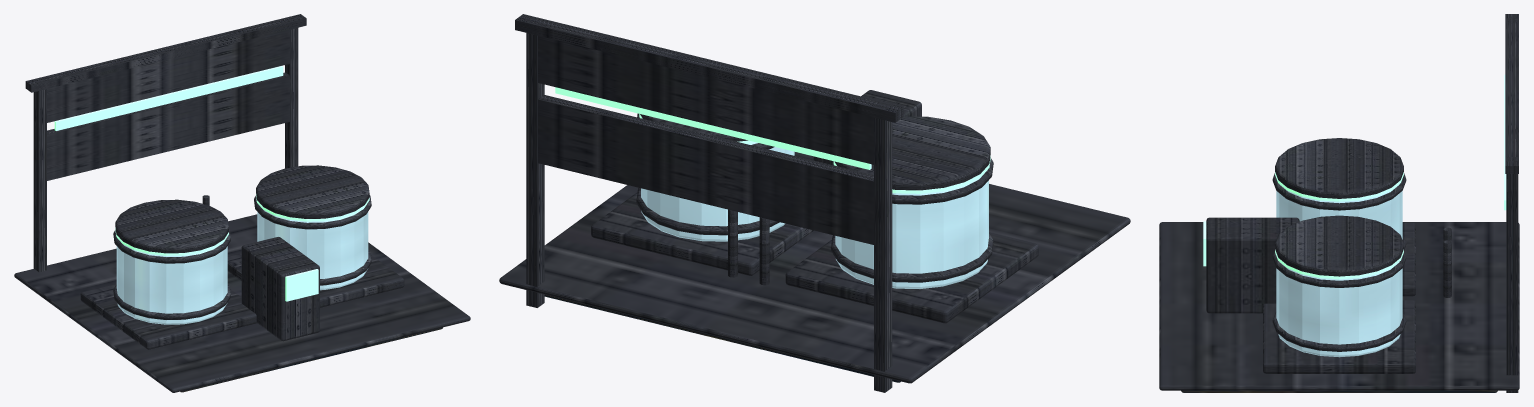
Rendered from ecosys_tank.glb.
The picture shows the model from 3 angles, left to right: view 1: azimuth 30°, elevation 25°; view 2: azimuth 150°, elevation 25°; view 3: azimuth 270°, elevation 25°; orthographic projection. The views are drawn at different scales.
Parts seen in each view (by area): view 1: sight_shell, plinth, glass0, console, cap1, cap0, glass1, pedestal0, sightglow, pedestal1, ringlo0, ringhi1 (+4 smaller); view 2: sight_shell, plinth, glass0, pedestal0, cap0, pedestal1, glass1, sightglow, ringlo0, ringlo1, ringhi0, toe (+3 smaller); view 3: plinth, glass1, console, cap1, cap0, sight_shell, pedestal1, glass0, ringlo1, ringhi1, ringhi0, toe (+4 smaller).
Boxes of the visible parts, x1,y1,x2,y2 form: sight_shell: (25,14,306,272); plinth: (14,214,470,392); glass0: (116,239,227,324); console: (241,237,319,341); cap1: (256,165,369,218); cap0: (115,199,228,253); glass1: (257,204,368,290); pedestal0: (80,283,256,349); sightglow: (54,66,283,130); pedestal1: (227,253,404,307); ringlo0: (113,284,230,319); ringhi1: (254,195,371,229); sight_shell: (515,14,903,392); plinth: (499,152,1130,383); glass0: (835,170,988,288); pedestal0: (785,232,1038,323); cap0: (834,116,990,190); pedestal1: (591,192,813,275); glass1: (641,142,794,241); sightglow: (555,87,871,169); ringlo0: (831,233,993,282); ringlo1: (636,188,779,235); ringhi0: (831,158,993,204); toe: (544,294,900,382); plinth: (1159,222,1519,390); glass1: (1276,262,1402,357); console: (1206,217,1299,313); cap1: (1275,215,1403,276); cap0: (1275,138,1403,198); sight_shell: (1505,14,1518,392); pedestal1: (1263,300,1415,373); glass0: (1276,184,1402,239); ringlo1: (1272,311,1406,351); ringhi1: (1272,251,1406,287); ringhi0: (1272,173,1406,210); toe: (1181,390,1497,392).
Bounding box in the file's own units: 2.6 × 1.7 × 2.4.
Materials: 8 (6 with a texture image).
